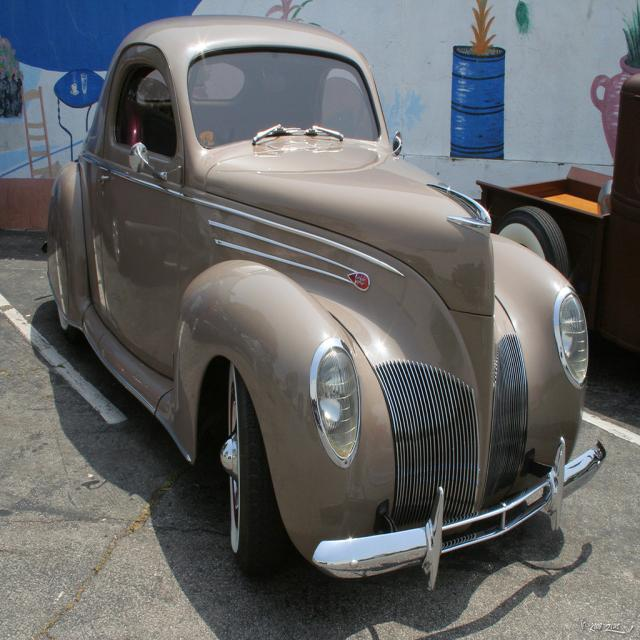car: (38, 14, 601, 587)
